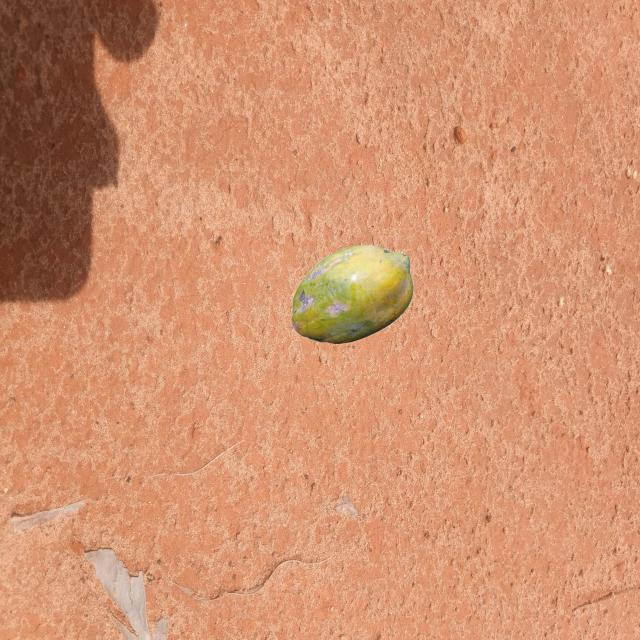Pepaya rippen: (288, 236, 422, 351)
